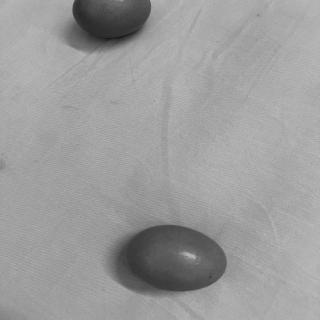Telur: (125, 223, 233, 295), (71, 1, 153, 45)
